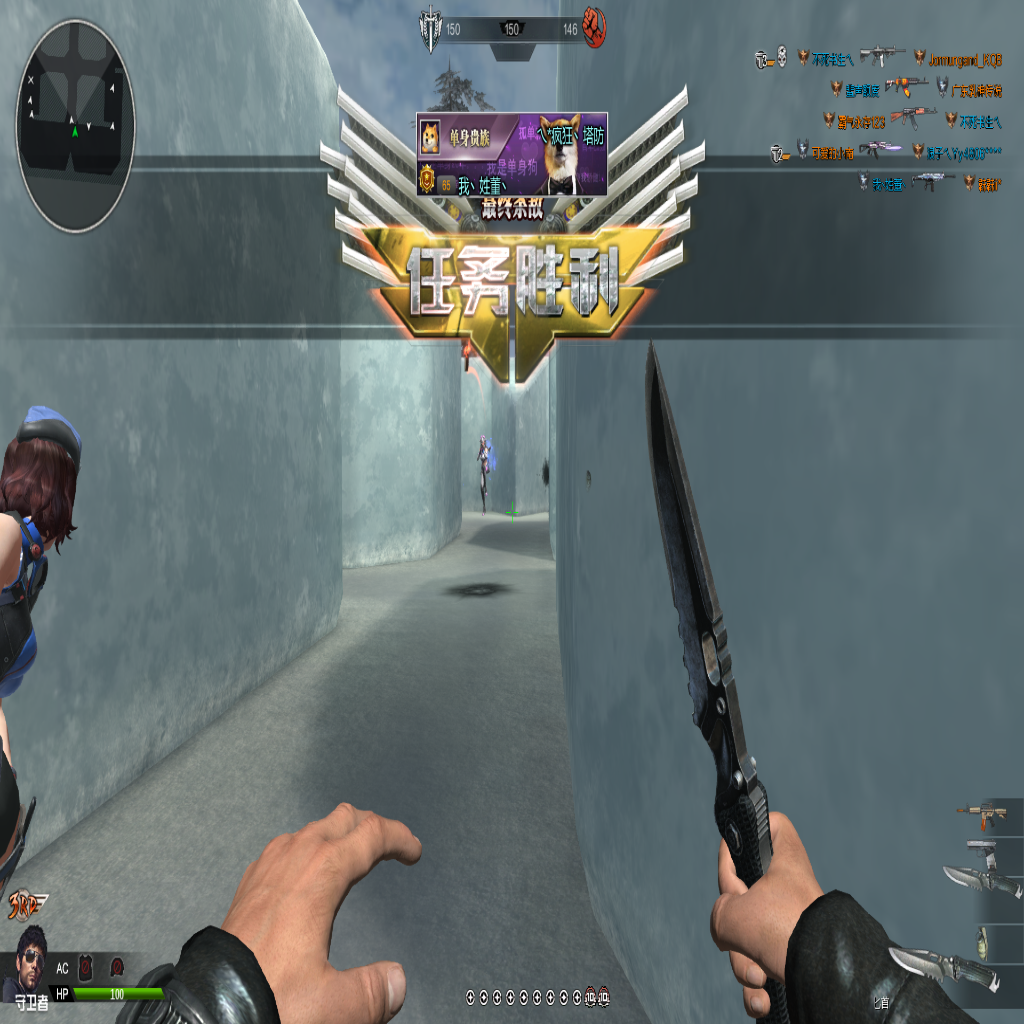ct: (2, 403, 83, 897)
tt: (476, 434, 491, 515)
